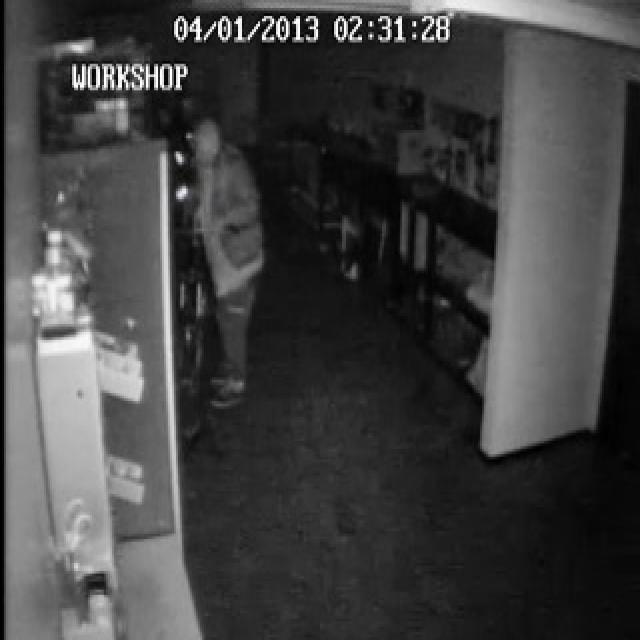thief: (175, 98, 272, 347)
